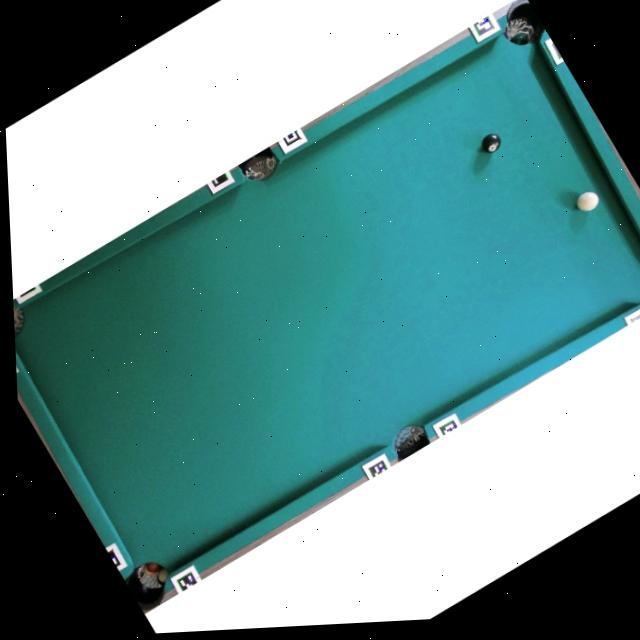cue ball: (570, 185, 604, 217)
other: (476, 129, 505, 156)
